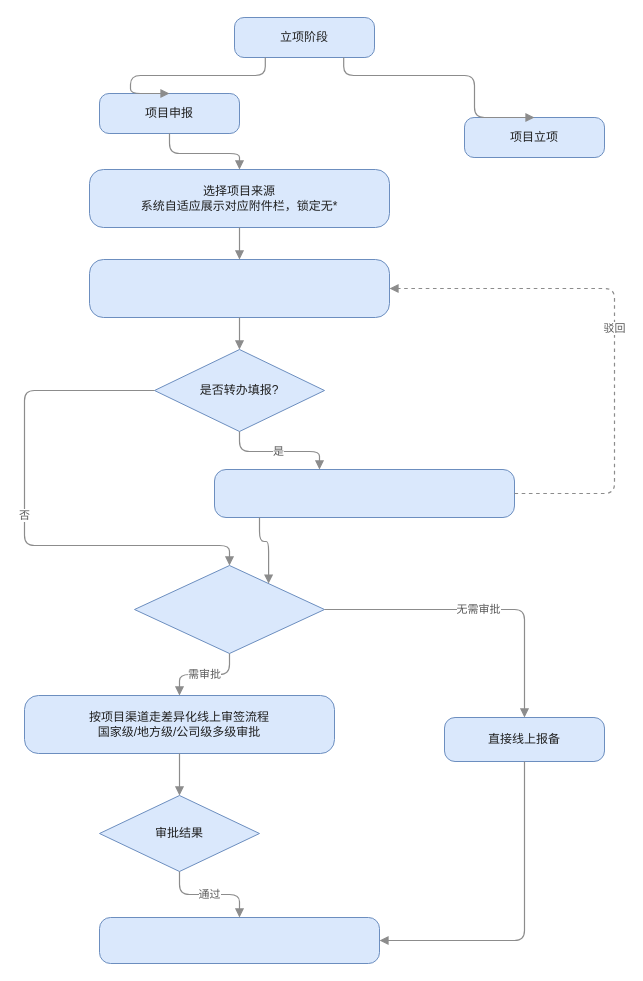
This 643x981 diagram has some shape labels left out. Each missing label, with the centre of its shape:
二级单位管理部门转办→项团补充填报: (364,493)
申报流程办结，数据同步台账: (239,940)
项团上传审批全套材料 建议书/申请书/任务清单/评审意见等: (239,288)
项目是否需要审批?: (229,609)
